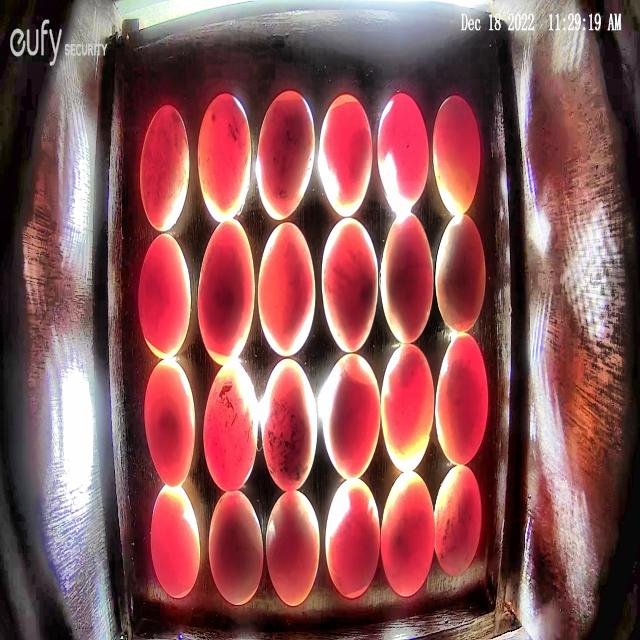FE: (196, 218, 255, 366), (321, 217, 379, 354), (258, 220, 316, 356), (261, 358, 318, 494), (256, 90, 315, 220), (323, 352, 381, 481), (203, 360, 258, 493), (380, 210, 434, 345), (435, 332, 489, 466), (381, 468, 436, 598), (381, 345, 436, 474), (197, 92, 251, 223), (318, 92, 373, 218), (325, 478, 381, 600), (145, 358, 196, 489), (139, 103, 190, 233), (138, 234, 191, 359), (208, 489, 264, 605), (266, 489, 320, 606), (376, 90, 428, 210), (434, 214, 486, 334), (432, 94, 481, 215), (150, 483, 200, 598), (434, 465, 482, 576)
